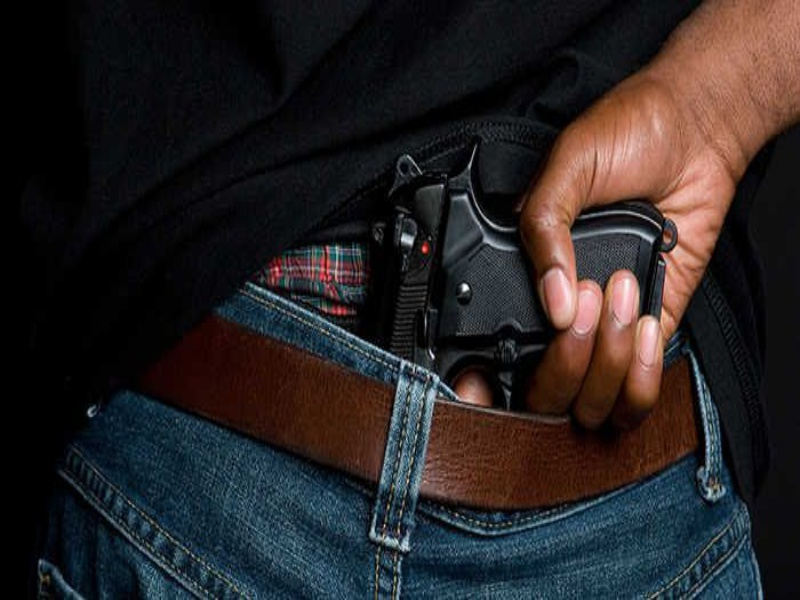gun: (359, 129, 685, 414)
